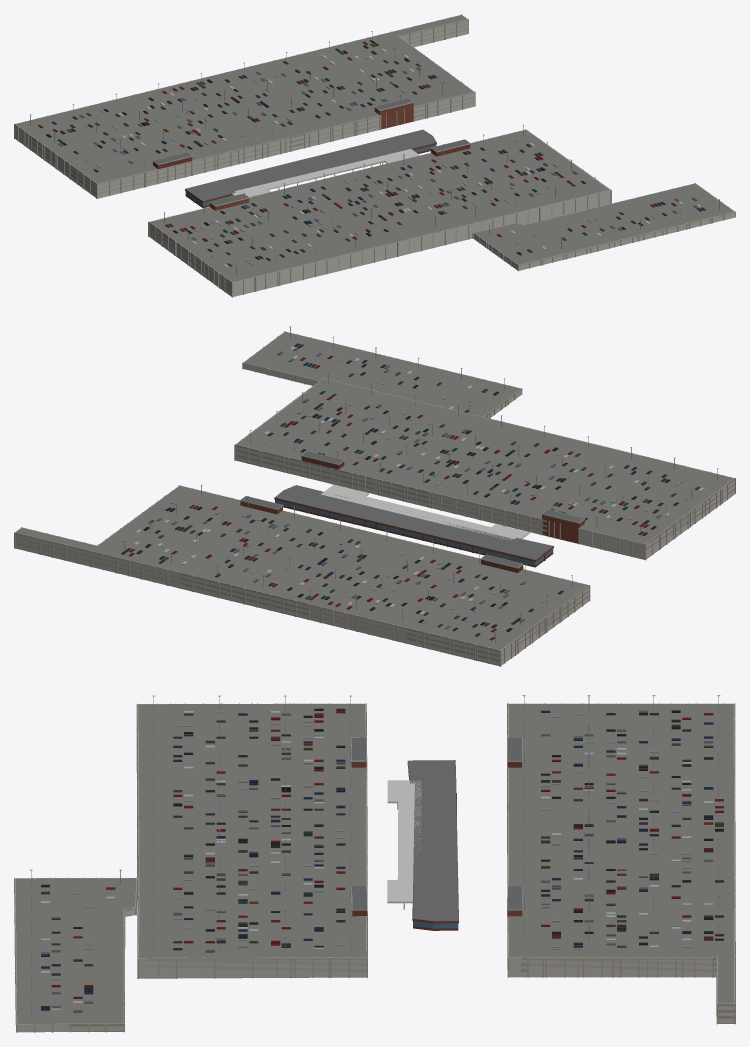
Rendered from atl-rental-car-center.glb.
3 views of the same model, one above another, from view 1: azimuth 30°, elevation 25°; view 2: azimuth 150°, elevation 25°; view 3: azimuth 270°, elevation 25° (orthographic). The views are drawn at different scales.
Parts seen in each view (by area): view 1: lod2_lm_stone, lod2_bld_wall, lod0_lm_metal, lod0_lm_stone, lod1_lm_stone, lod1_bld_wall; view 2: lod2_lm_stone, lod2_bld_wall, lod0_lm_stone, lod0_lm_metal, lod1_lm_stone, lod0_bld_wall, lod1_bld_glass; view 3: lod2_lm_stone, lod0_lm_metal, lod2_bld_wall, lod0_lm_stone, lod1_lm_stone.
Boxes of the visible parts, bbox=[...] form: lod2_lm_stone: bbox=[16, 15, 733, 282]; lod2_bld_wall: bbox=[15, 21, 734, 296]; lod0_lm_metal: bbox=[30, 31, 719, 275]; lod0_lm_stone: bbox=[14, 14, 735, 296]; lod1_lm_stone: bbox=[14, 19, 722, 297]; lod1_bld_wall: bbox=[158, 103, 413, 168]; lod2_lm_stone: bbox=[16, 331, 733, 649]; lod2_bld_wall: bbox=[15, 363, 734, 665]; lod0_lm_stone: bbox=[14, 331, 735, 666]; lod0_lm_metal: bbox=[121, 326, 718, 643]; lod1_lm_stone: bbox=[40, 331, 735, 666]; lod0_bld_wall: bbox=[260, 461, 584, 572]; lod1_bld_glass: bbox=[275, 500, 521, 562]; lod2_lm_stone: bbox=[15, 704, 734, 1023]; lod0_lm_metal: bbox=[29, 695, 723, 1016]; lod2_bld_wall: bbox=[16, 762, 734, 1032]; lod0_lm_stone: bbox=[14, 703, 735, 1032]; lod1_lm_stone: bbox=[14, 703, 735, 1032].
Size of the model in its own units: 359 by 19.04 by 354.
